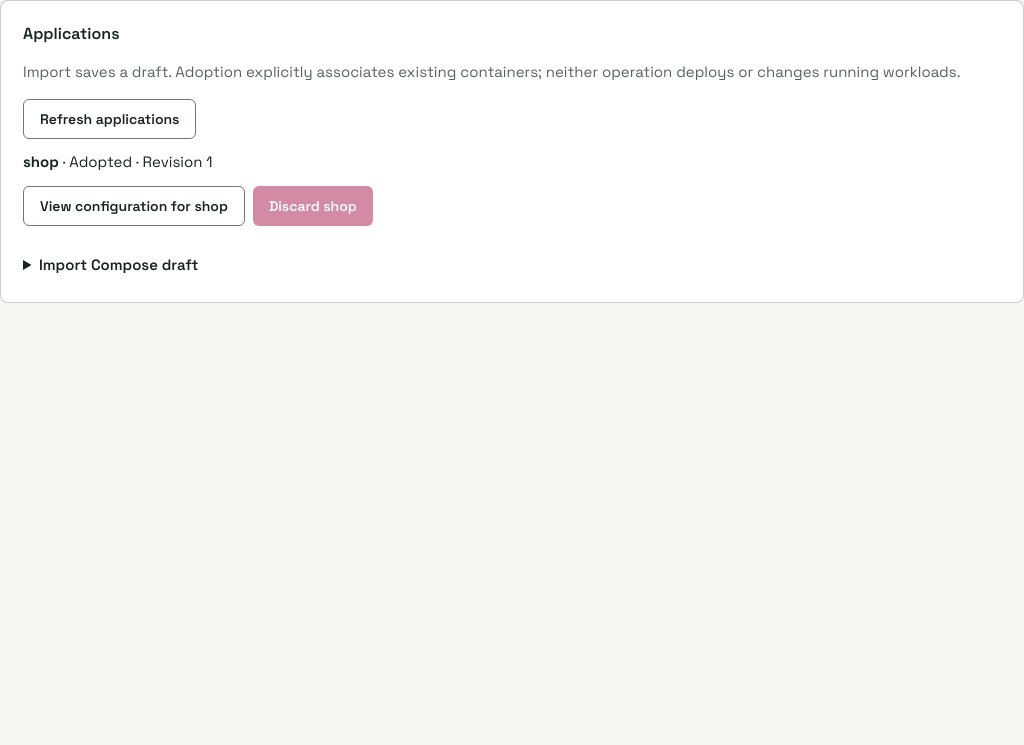
Test: says a removal was sent and reloads the instances
The image size is (1024, 745).
Click the button "View configuration for shop" at {"x": 134, "y": 206}, box [23, 186, 245, 226]
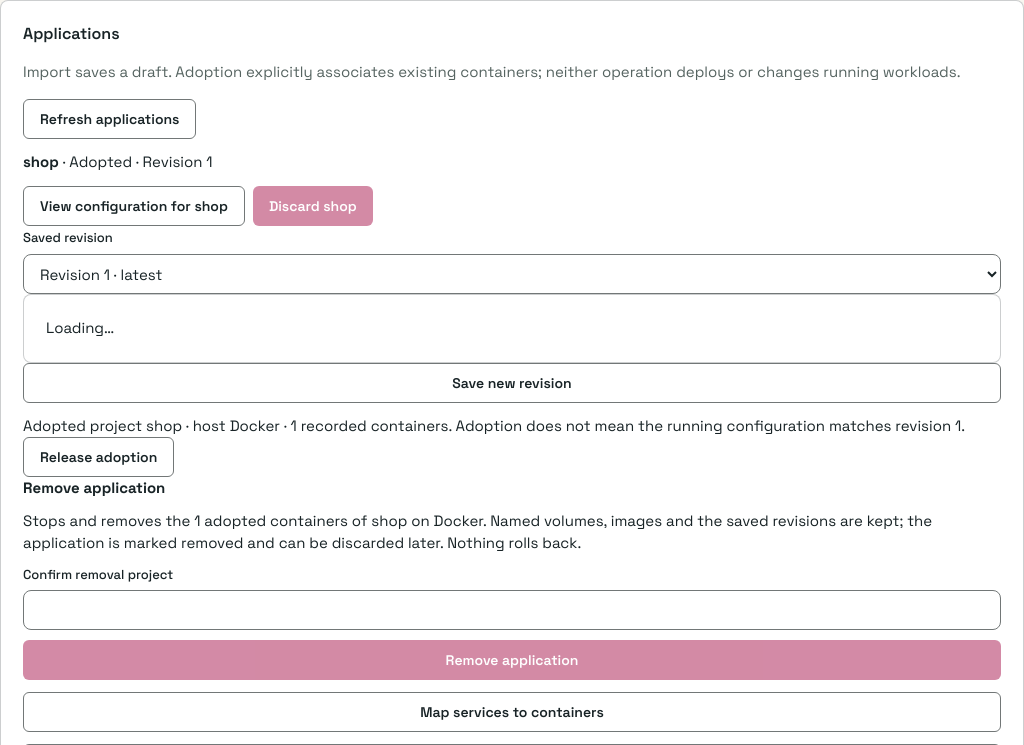
Type "shop" into the field labelled "Confirm removal project" at {"x": 512, "y": 610}, box [23, 590, 1001, 630]
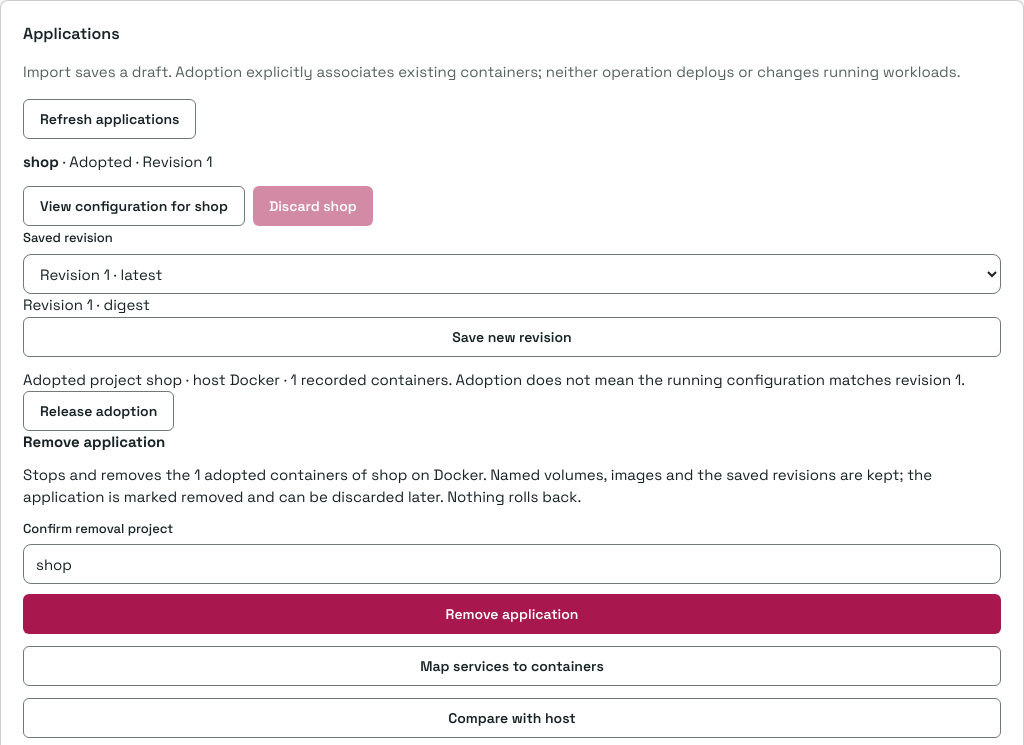
Click the button "Remove application" at {"x": 512, "y": 614}, box [23, 594, 1001, 634]
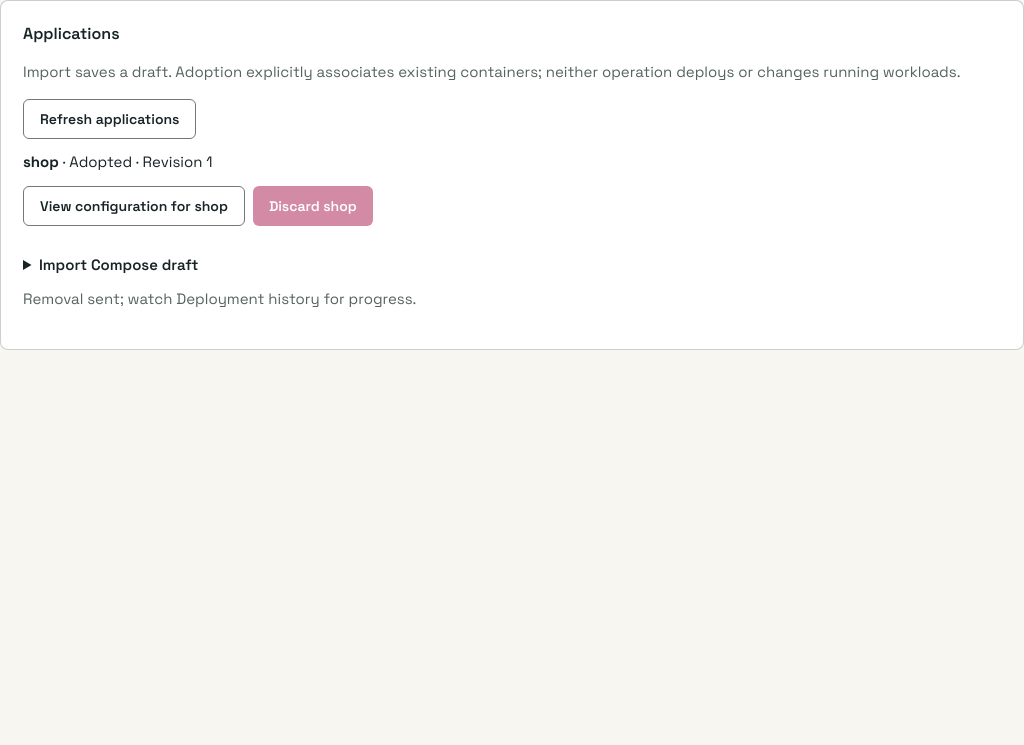
Now the text "Removal sent; watch Deployment history for progress." is shown, box [23, 289, 416, 308]
